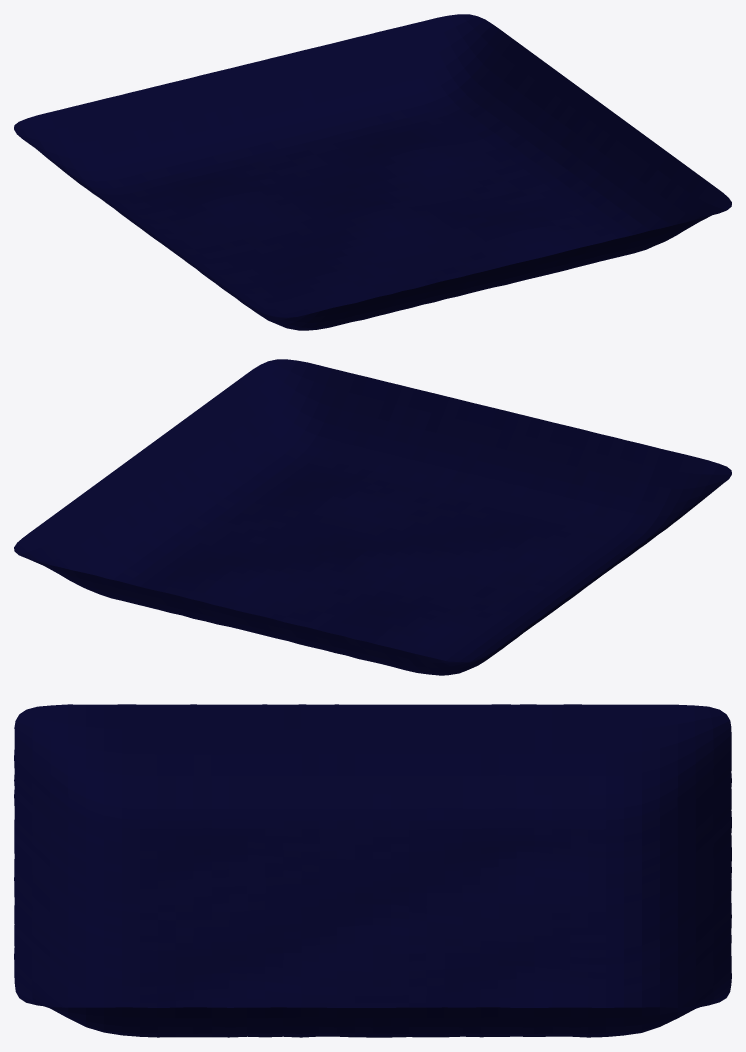
The model's file is envtest2.obj.
3 views of the same model, one above another, from view 1: azimuth 30°, elevation 25°; view 2: azimuth 150°, elevation 25°; view 3: azimuth 270°, elevation 25° (orthographic). The views are drawn at different scales.
Parts seen in each view (by area): view 1: Room.001; view 2: Room.001; view 3: Room.001.
Part boxes in pixels (x1,y1,x2,y2): Room.001: [14, 14, 731, 330]; Room.001: [14, 359, 731, 675]; Room.001: [14, 704, 731, 1037].
Bounding box in the file's own units: 50.05 × 5.57 × 50.05.
